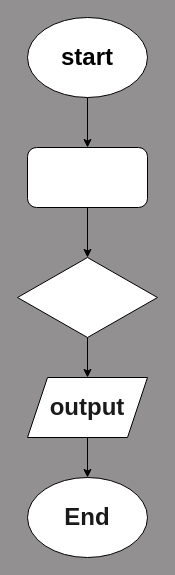
The diagram is 175 pixels wide and 575 high, and some of its shapes have lost their labels. Here are the shapes that lost their labels. From the top down, the centre of each, then its label:
At pixel 87 177: "Pro cess".
At pixel 87 297: "Deci sion".
